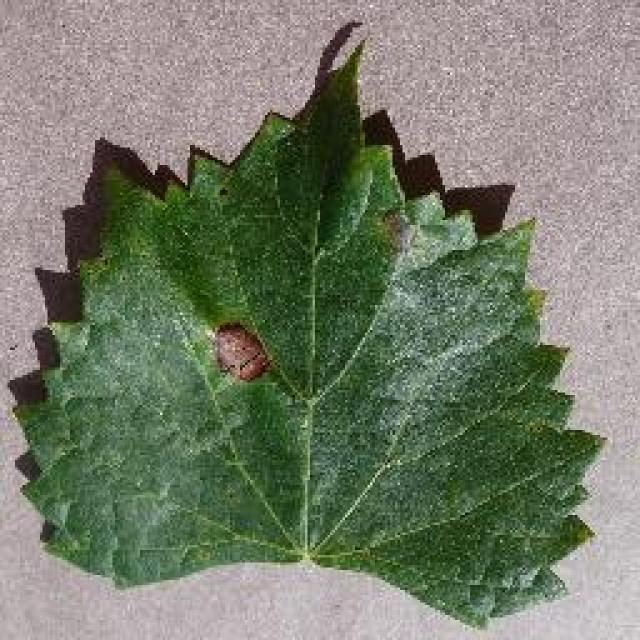Grape___Black_rot: (8, 32, 613, 637)
